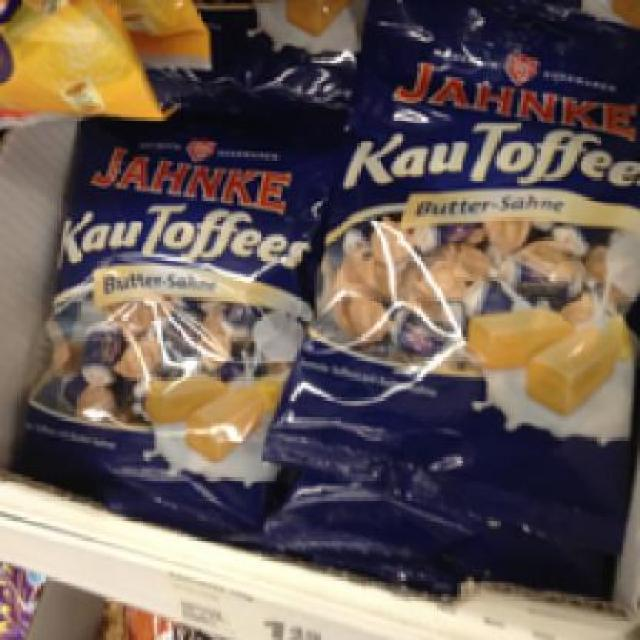Candy: (353, 19, 630, 515), (29, 66, 337, 506)
